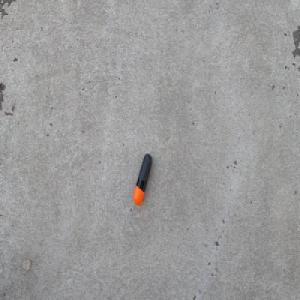PlasticPart: (132, 152, 152, 206)
